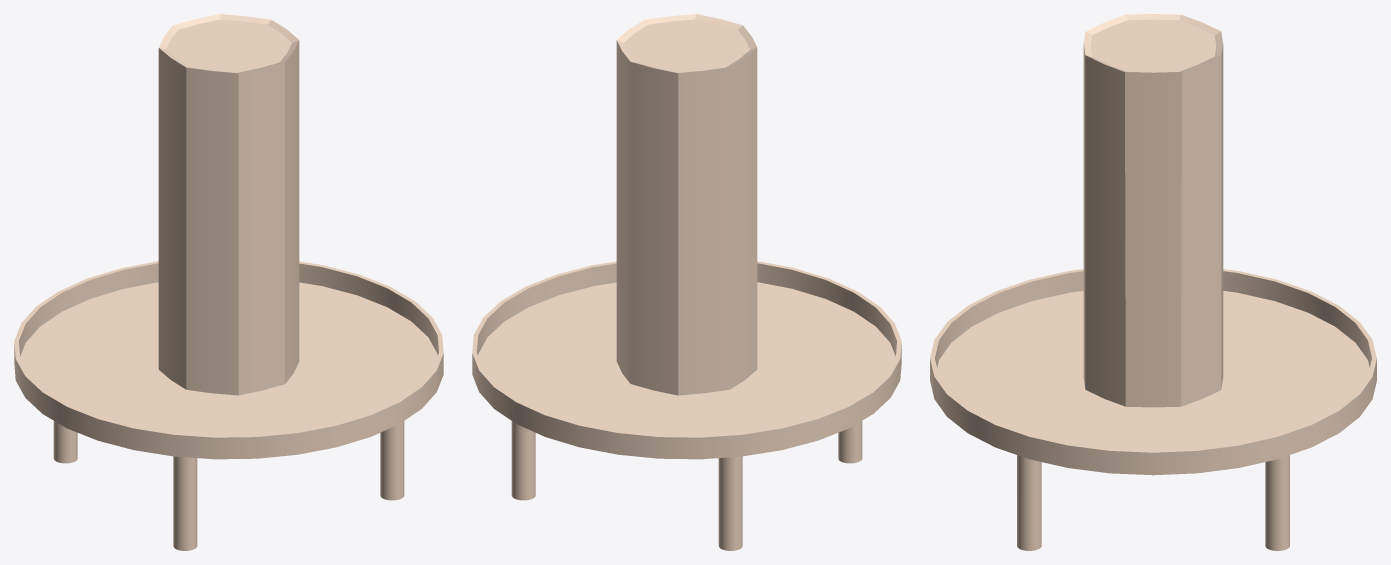
File: Farm_Base.glb
The picture shows the model from 3 angles, left to right: view 1: azimuth 30°, elevation 25°; view 2: azimuth 150°, elevation 25°; view 3: azimuth 270°, elevation 25°; orthographic projection. The views are drawn at different scales.
Parts seen in each view (by area): view 1: Base, Support; view 2: Base, Support; view 3: Base, Support.
Boxes of the visible parts, <box> form: Base: <box>14,261,443,550</box>; Support: <box>158,14,299,395</box>; Base: <box>472,261,901,550</box>; Support: <box>616,14,757,395</box>; Base: <box>930,269,1376,550</box>; Support: <box>1083,14,1223,407</box>.
Bounding box in the file's own units: 1.8 × 2 × 1.8.
